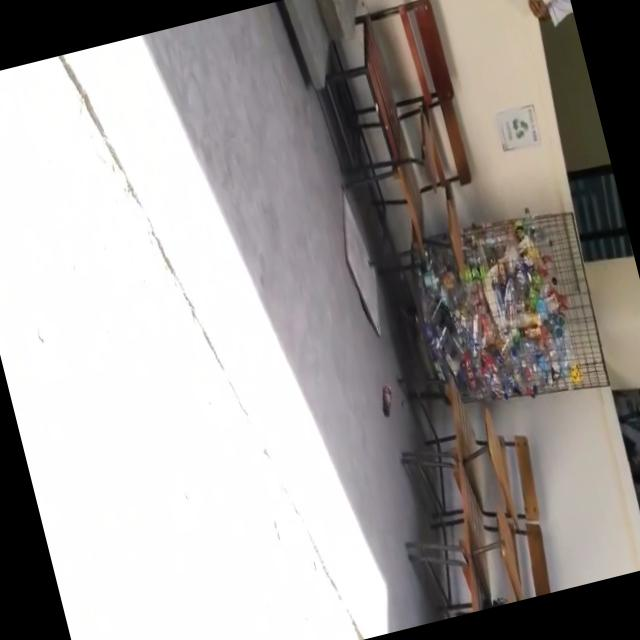Bottle: (381, 385, 392, 416)
